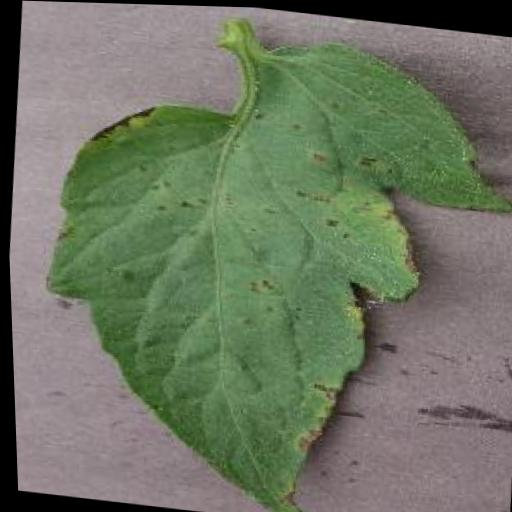Bacterial Spot: (9, 0, 512, 512)
